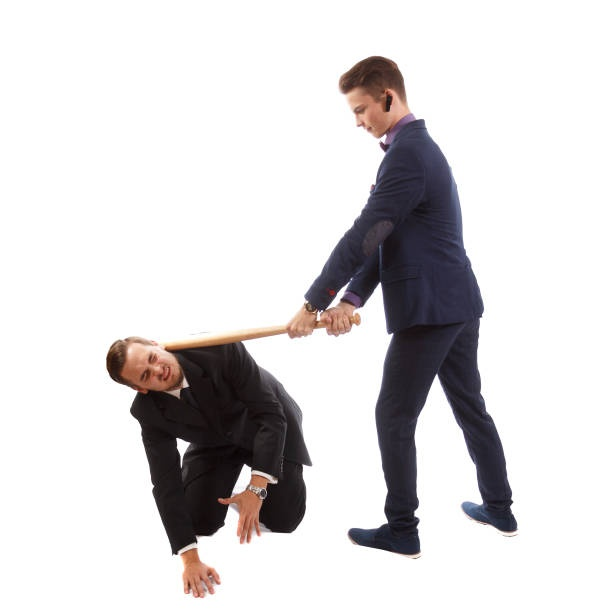bita: (153, 312, 370, 362)
